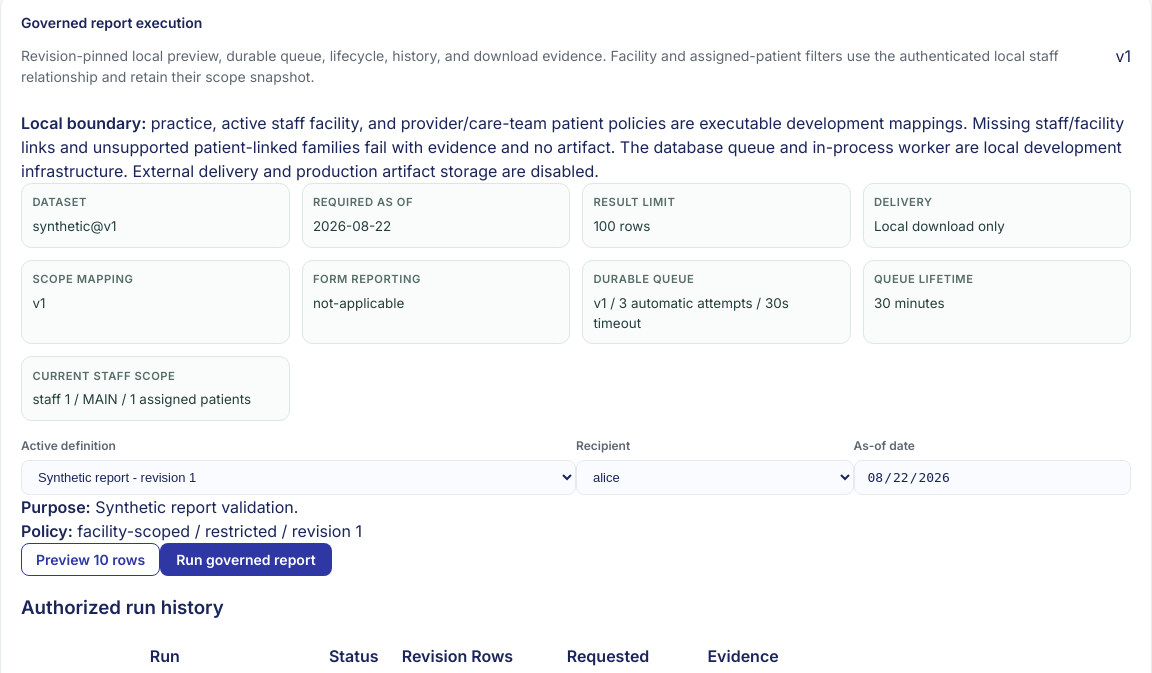
Test: GovernedReportExecution › does not leave a queued run permanently stale after one polling failure
Click the button "Run governed report": (246, 559) top-left (160, 543), bottom-right (332, 576)
(page scrolled)
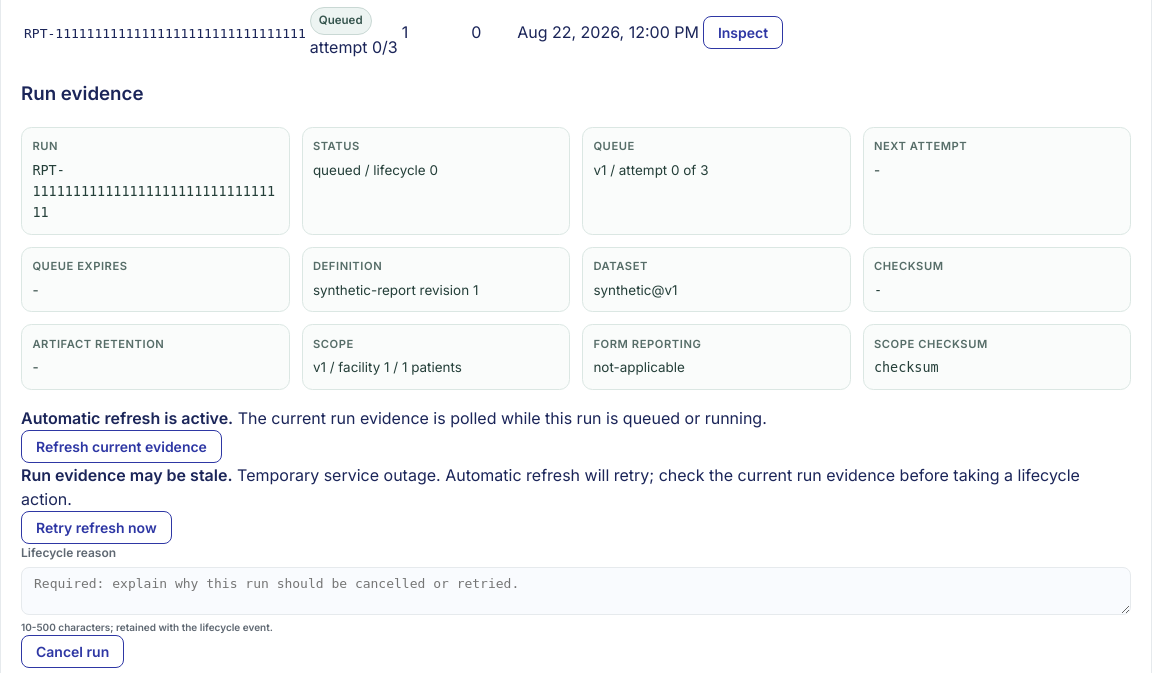
Result: the text "Run evidence may be stale." is shown at top-left (21, 465), bottom-right (233, 485)
Click the button "Retry refresh now": (96, 528) top-left (21, 511), bottom-right (172, 544)
(page scrolled)
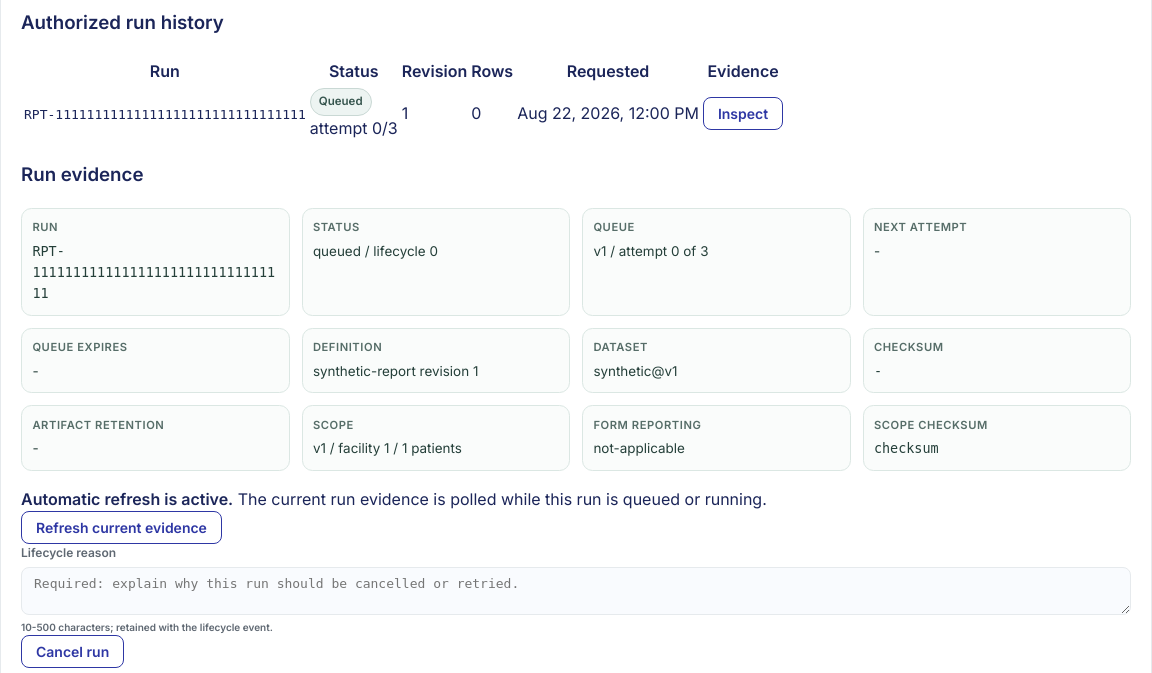
Result: the text "Run evidence may be stale." is gone
